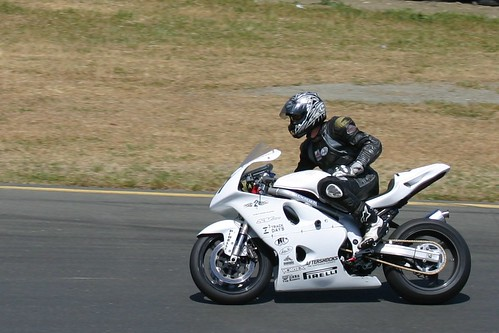helmet: (274, 85, 329, 136)
